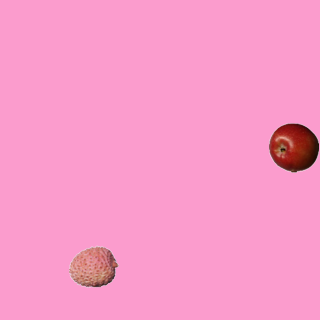Apple Braeburn: (268, 122, 318, 172)
Lychee: (68, 241, 118, 291)
